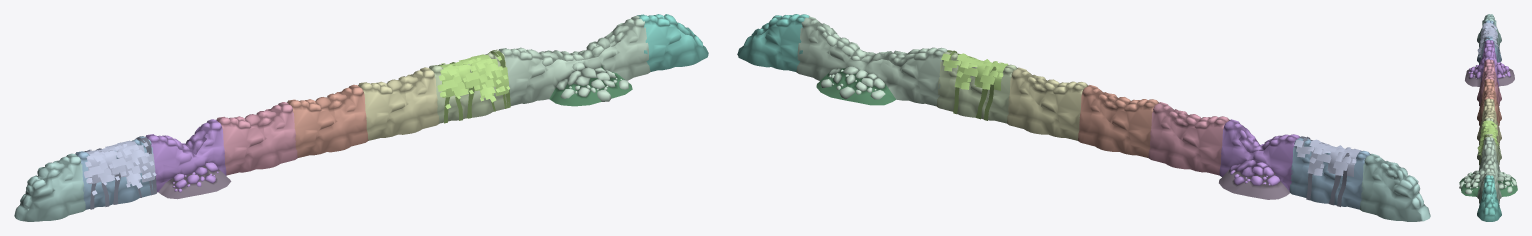
Rendered from stoneWall.fbx.
3 views of the same model, side by side, from view 1: azimuth 30°, elevation 25°; view 2: azimuth 150°, elevation 25°; view 3: azimuth 270°, elevation 25° (orthographic). The views are drawn at different scales.
Parts seen in each view (by area): view 1: StonewallLong01:1, Stonewall01:1.002, Stonewall01:1, Stonewall01:1.001, Stonewall02:1, StonewallEndL01:1, L2_Ivy, L2_Ivy.001, StonewallEndR01:1, Stonewall01Ivy:1, Stonewall01Ivy:1.001, Stonewall02:4 (+1 smaller); view 2: StonewallLong01:1, Stonewall01:1.002, Stonewall01:1, Stonewall01:1.001, Stonewall02:1, StonewallEndL01:1, StonewallEndR01:1, Stonewall01Ivy:1, Stonewall01Ivy:1.001, L2_Ivy, L2_Ivy.001, Stonewall02:4 (+1 smaller); view 3: StonewallLong01:1, StonewallEndR01:1, Stonewall02:1, Stonewall01:1, Stonewall01:1.001, Stonewall01:1.002, StonewallLong01:4, L2_Ivy.001, L2_Ivy, Stonewall02:4, Stonewall01Ivy:1.001, Stonewall01Ivy:1 (+1 smaller).
Part boxes in pixels (x1,y1,x2,y2): StonewallLong01:1: [498, 16, 650, 105]; Stonewall01:1.002: [358, 67, 439, 140]; Stonewall01:1: [216, 102, 297, 175]; Stonewall01:1.001: [287, 84, 368, 157]; Stonewall02:1: [145, 119, 226, 192]; StonewallEndL01:1: [14, 153, 85, 221]; L2_Ivy: [84, 136, 156, 209]; L2_Ivy.001: [437, 49, 510, 123]; StonewallEndR01:1: [636, 14, 708, 71]; Stonewall01Ivy:1: [75, 136, 154, 209]; Stonewall01Ivy:1.001: [429, 50, 508, 123]; Stonewall02:4: [158, 165, 231, 199]; StonewallLong01:1: [796, 16, 947, 106]; Stonewall01:1.002: [1007, 67, 1087, 140]; Stonewall01:1: [1148, 102, 1229, 175]; Stonewall01:1.001: [1078, 85, 1158, 157]; Stonewall02:1: [1219, 119, 1299, 191]; StonewallEndL01:1: [1360, 153, 1430, 221]; StonewallEndR01:1: [737, 14, 809, 71]; Stonewall01Ivy:1: [1289, 136, 1370, 209]; Stonewall01Ivy:1.001: [936, 51, 1017, 123]; L2_Ivy: [1294, 136, 1361, 206]; L2_Ivy.001: [941, 50, 1008, 120]; Stonewall02:4: [1219, 169, 1289, 199]; StonewallLong01:1: [1459, 137, 1516, 203]; StonewallEndR01:1: [1477, 175, 1501, 221]; Stonewall02:1: [1468, 40, 1510, 86]; Stonewall01:1: [1477, 59, 1501, 106]; Stonewall01:1.001: [1477, 79, 1501, 125]; Stonewall01:1.002: [1477, 98, 1501, 144]; StonewallLong01:4: [1459, 173, 1517, 196]; L2_Ivy.001: [1477, 120, 1501, 165]; L2_Ivy: [1477, 22, 1501, 62]; Stonewall02:4: [1465, 66, 1514, 86]; Stonewall01Ivy:1.001: [1477, 118, 1501, 164]; Stonewall01Ivy:1: [1477, 20, 1501, 64].
Bounding box in the file's own units: 247716 × 17777 × 32290.
